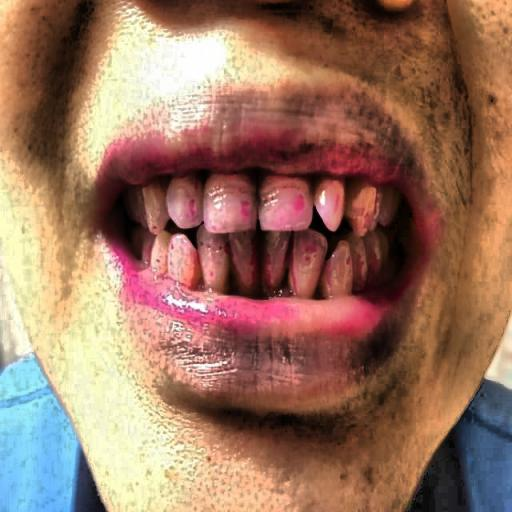Plaque: (124, 158, 410, 309)
